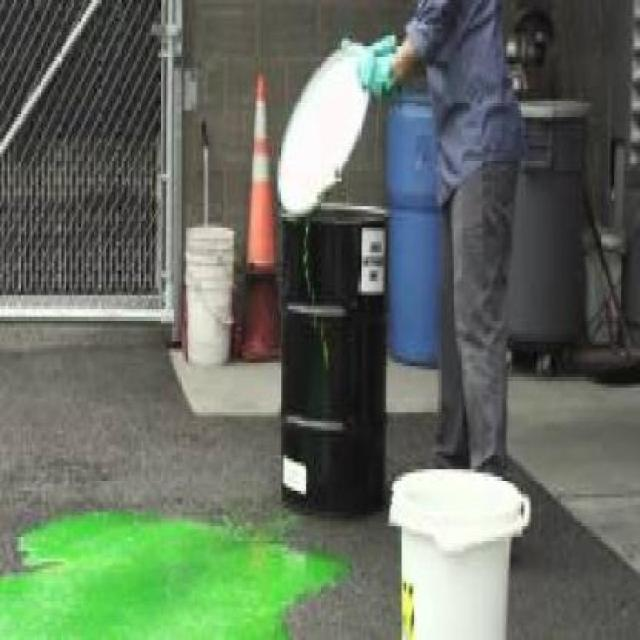spillage: (0, 512, 352, 640)
